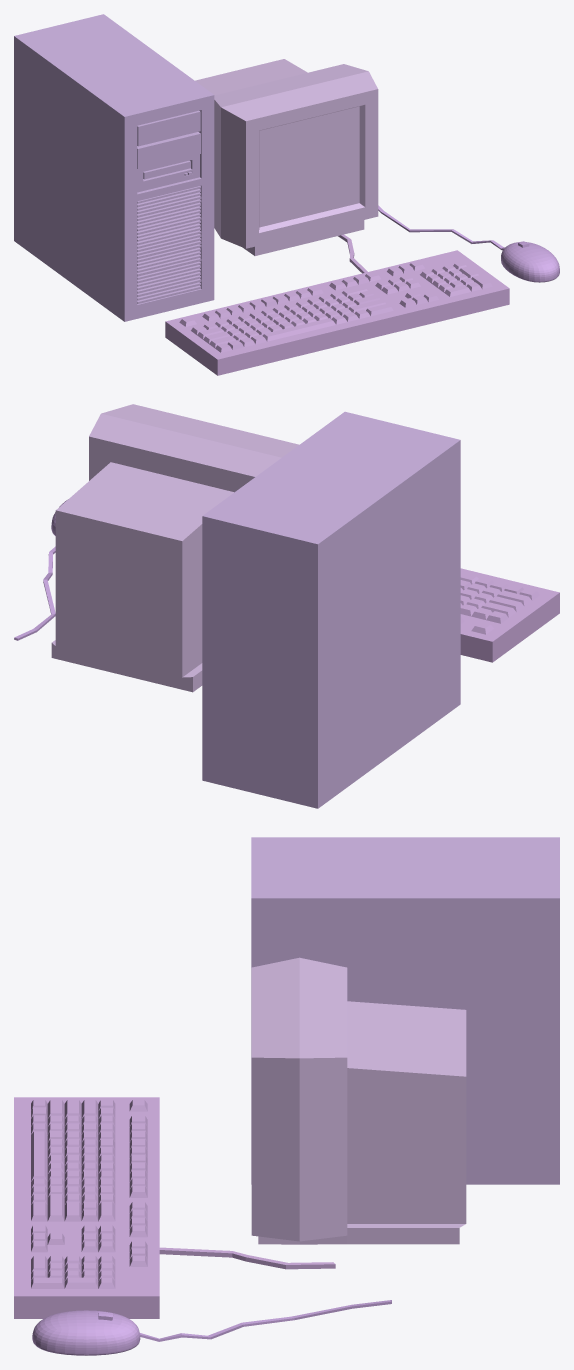
Rendered from computer.glb.
3 views of the same model, one above another, from view 1: azimuth 30°, elevation 25°; view 2: azimuth 150°, elevation 25°; view 3: azimuth 270°, elevation 25° (orthographic). The views are drawn at different scales.
Parts seen in each view (by area): view 1: Cube, monitor, keyboard, mouse; view 2: Cube, monitor, keyboard, mouse; view 3: Cube, monitor, keyboard, mouse.
Part boxes in pixels (x1=…): Cube: x1=14, y1=14, x2=214, y2=321; monitor: x1=195, y1=59, x2=378, y2=255; keyboard: x1=165, y1=234, x2=509, y2=375; mouse: x1=378, y1=205, x2=559, y2=282; Cube: x1=202, y1=411, x2=460, y2=808; monitor: x1=51, y1=404, x2=299, y2=692; keyboard: x1=460, y1=568, x2=559, y2=662; mouse: x1=14, y1=499, x2=68, y2=640; Cube: x1=251, y1=837, x2=559, y2=1184; monitor: x1=251, y1=957, x2=466, y2=1244; keyboard: x1=14, y1=1097, x2=335, y2=1318; mouse: x1=32, y1=1300, x2=391, y2=1355.
Size of the model in its own units: 6.04 by 3.21 by 5.56.
